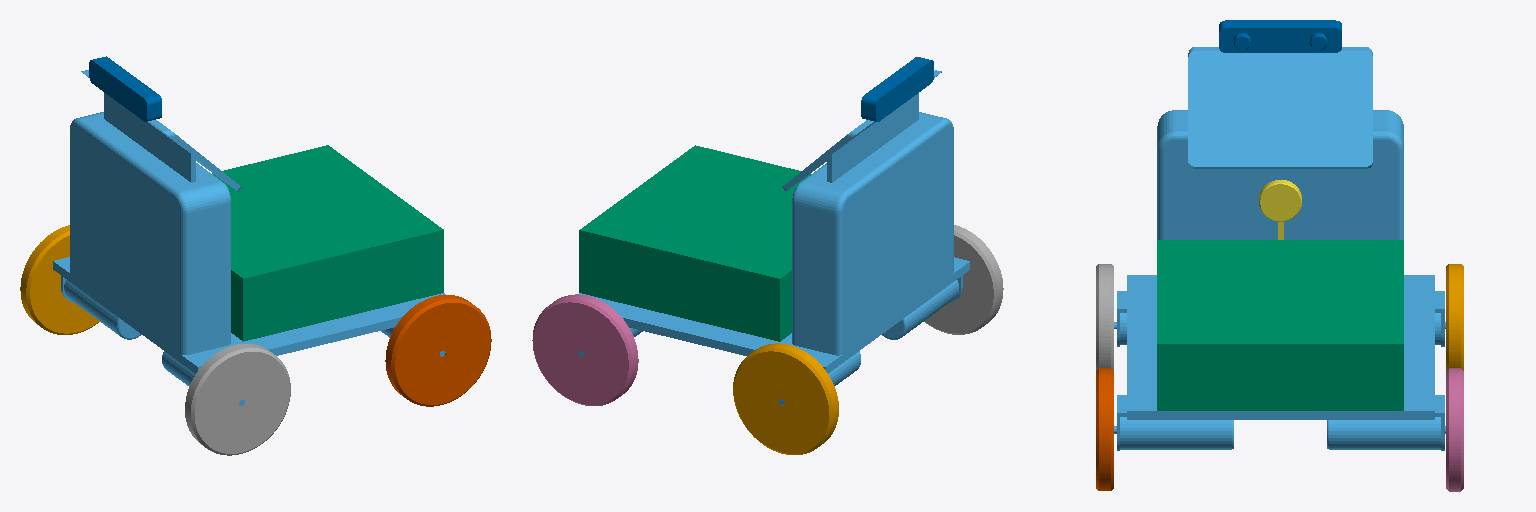
robot.urdf — cura:
<?xml version='1.0' encoding='utf-8'?>
<robot name="cura">

    <link name="base_footprint"/>
    
    <link name="base_link">
        <inertial>
            <origin xyz="-0.08262380653775205 -2.2286482841173966e-06 0.061297925710071505" rpy="0.0 0.0 0.0" />
            <mass value="5.112448552839006" />
            <inertia ixx="0.0379135930743829" iyy="0.03713968953386242" izz="0.04251956273154715" ixy="9.414032329921333e-07" iyz="-9.604778950091125e-07" ixz="0.009027905699237473" />
        </inertial>
        <visual name="base_link_visual">
            <origin xyz="0.0 0.0 0.0" rpy="0.0 0.0 0.0" />
            <geometry>
                <mesh filename="package://cura_description/meshes/base_link.stl" scale="0.001 0.001 0.001" />
            </geometry>
            <material name="base_link"/>
        </visual>
        <collision name="base_link_collision">
            <origin xyz="0.0 0.0 0.051" rpy="0.0 0.0 0.0" />
            <geometry>
                <mesh filename="package://cura_description/meshes/base_link.stl" scale="0.001 0.001 0.001" />
            </geometry>
        </collision>
    </link>
    <link name="sanitation_tank">
        <inertial>
            <origin xyz="-3.7017007608692317e-16 0.09999999999999988 0.014999999999999918" rpy="0.0 -0.0 0.0" />
            <mass value="0.1810668300000006" />
            <inertia ixx="0.0007586630270449977" iyy="0.0007586630270450012" izz="0.0014546284342450005" ixy="9.17793106534601e-19" iyz="-1.81603863891322e-18" ixz="-5.011148212657467e-19" />
        </inertial>
        <visual name="sanitation_tank_visual">
            <origin xyz="-4.263256414560601e-16 0.12499999999999972 -0.00800000000000008" rpy="-3.8925688692122967e-16 -6.383782391594647e-16 -1.5707963267948932" />
            <geometry>
                <mesh filename="package://cura_description/meshes/sanitation_tank.stl" scale="0.001 0.001 0.001" />
            </geometry>
            <material name="sanitization_transparent"/>
        </visual>
        <collision name="sanitation_tank_collision">
            <origin xyz="0 0.1 0.015" rpy="0 0 0" />
            <geometry>
                <box size="0.2 0.2 0.03"/>
            </geometry>
        </collision>
    </link>
    <link name="ultrasonic_humidifier">
        <inertial>
            <origin xyz="9.495055921730156e-18 -0.08926824762380647 0.0035869477650948144" rpy="0.0 -0.0 0.0" />
            <mass value="0.00793228924731246" />
            <inertia ixx="1.9151899989100897e-06" iyy="6.081252851735302e-07" izz="2.446233038281946e-06" ixy="-4.31330295791347e-21" iyz="6.68987338025778e-08" ixz="-1.0478967289628475e-21" />
        </inertial>
        <visual name="ultrasonic_humidifier_visual">
            <origin xyz="0.0 0.008 0.08" rpy="1.5707963267948966 -1.5707963267948966 0" />
            <geometry>
                <mesh filename="package://cura_description/meshes/ultrasonic_humidifier.stl" scale="0.001 0.001 0.001" />
            </geometry>
            <material name="ultrasonic_humidifier"/>
        </visual>
        <collision name="ultrasonic_humidifier_collision">
            <origin xyz="0.0 -0.08 0.0" rpy="0 0 0" />
            <geometry>
                <cylinder radius="0.0175" length="0.0075"/>
            </geometry>
        </collision>
    </link>
    <link name="camera_link">
        <inertial>
            <origin xyz="0.0004355208632667207 2.808606897768501e-13 0.010999998588990962" rpy="0.0 -0.0 0.0" />
            <mass value="0.03622612512790615" />
            <inertia ixx="3.127500439889389e-05" iyy="2.1988384702894236e-06" izz="3.0681383750880316e-05" ixy="-3.1212025022856454e-18" iyz="2.975526497420423e-20" ixz="2.168404344971009e-19" />
        </inertial>
        <visual name="camera_link_visual">
            <origin xyz="0.12949747000000017 -6.661338147750939e-18 -0.21103301000000035" rpy="-3.1308063019589895e-16 -1.665334536937735e-15 -3.081487911019576e-33" />
            <geometry>
                <mesh filename="package://cura_description/meshes/camera_link.stl" scale="0.001 0.001 0.001" />
            </geometry>
            <material name="camera_link"/>
        </visual>
        <collision name="camera_link_collision">
            <origin xyz="0.0025 0 0.011" rpy="0 0 0" />
            <geometry>
                <box size="0.02 0.1 0.022"/> 
            </geometry>
        </collision>
    </link>
    
    <!--Wheels-->
    <link name="f_wheel_r">
        <inertial>
            <origin xyz="-1.1546319456101628e-15 -4.440892098500626e-18 -0.007500000000000018" rpy="0.0 -0.0 0.0" />
            <mass value="0.12238212935734573" />
            <inertia ixx="7.781462317218903e-05" iyy="7.78146231719323e-05" izz="0.00015114632321814475" ixy="0.0" iyz="1.0842021724855044e-19" ixz="-2.168404344971009e-19" />
        </inertial>
        <visual name="f_wheel_r_visual">
            <origin xyz="-0.1 0.023 -0.135" rpy="-1.5707963267948966 -0.0 0.0" />
            <geometry>
                <mesh filename="package://cura_description/meshes/f_wheel_r.stl" scale="0.001 0.001 0.001" />
            </geometry>
            <material name="wheels"/>
        </visual>
        <collision name="f_wheel_r_collision">
            <origin xyz="0 0 0" rpy="0 0 0" />
            <geometry>
                <cylinder radius="0.05" length="0.015"/>
            </geometry>
        </collision>
    </link>
    <link name="f_wheel_l">
        <inertial>
            <origin xyz="1.1723955140041654e-15 -1.3322676295501878e-17 -0.007499999999999982" rpy="0.0 -0.0 0.0" />
            <mass value="0.1223821293573457" />
            <inertia ixx="7.78146231721886e-05" iyy="7.781462317193143e-05" izz="0.00015114632321814475" ixy="-2.710505431213761e-19" iyz="-1.6263032587282567e-19" ixz="-2.168404344971009e-19" />
        </inertial>
        <visual name="f_wheel_l_visual">
            <origin xyz="-0.1 -0.023 -0.149" rpy="1.5707963267948966 -0.0 0.0" />
            <geometry>
                <mesh filename="package://cura_description/meshes/f_wheel_l.stl" scale="0.001 0.001 0.001" />
            </geometry>
            <material name="wheels"/>
        </visual>
        <collision name="f_wheel_l_collision">
            <origin xyz="0 0 0" rpy="0 0 0" />
            <geometry>
                <cylinder radius="0.05" length="0.015"/>
            </geometry>
        </collision>
    </link>
    <link name="b_wheel_r">
        <inertial>
            <origin xyz="-1.1723955140041654e-15 1.7763568394002505e-17 -0.007500000000000018" rpy="0.0 -0.0 0.0" />
            <mass value="0.12238212935734573" />
            <inertia ixx="7.781462317218947e-05" iyy="7.78146231719323e-05" izz="0.00015114632321814496" ixy="0.0" iyz="-2.710505431213761e-19" ixz="-2.168404344971009e-19" />
        </inertial>
        <visual name="b_wheel_r_visual">
            <origin xyz="0.1 0.023 -0.135" rpy="-1.5707963267948966 -0.0 0.0" />
            <geometry>
                <mesh filename="package://cura_description/meshes/b_wheel_r.stl" scale="0.001 0.001 0.001" />
            </geometry>
            <material name="wheels"/>
        </visual>
        <collision name="b_wheel_r_collision">
            <origin xyz="0 0 0" rpy="0 0 0" />
            <geometry>
                <cylinder radius="0.05" length="0.015"/>
            </geometry>
        </collision>
    </link>
    <link name="b_wheel_l">
        <inertial>
            <origin xyz="1.1191048088221578e-15 4.440892098500626e-18 -0.0075" rpy="0.0 -0.0 0.0" />
            <mass value="0.12238212935734573" />
            <inertia ixx="7.781462317218773e-05" iyy="7.781462317193143e-05" izz="0.0001511463232181441" ixy="1.0842021724855044e-19" iyz="1.0842021724855044e-19" ixz="0.0" />
        </inertial>
        <visual name="b_wheel_l_visual">
            <origin xyz="0.1 -0.023 -0.149" rpy="1.5707963267948966 -0.0 0.0" />
            <geometry>
                <mesh filename="package://cura_description/meshes/b_wheel_l.stl" scale="0.001 0.001 0.001" />
            </geometry>
            <material name="wheels"/>
        </visual>
        <collision name="b_wheel_l_collision">
            <origin xyz="0 0 0" rpy="0 0 0" />
            <geometry>
                <cylinder radius="0.05" length="0.015"/>
            </geometry>
        </collision>
    </link>
    
    <link name="hmi">
        <inertial>
            <origin xyz="0.009071293031360598 5.098169701195674e-17 0.0158352964536687" rpy="0.0 -0.0 0.0" />
            <mass value="0.10596741272194547" />
            <inertia ixx="0.00023875316959975348" iyy="7.865987992900208e-05" izz="0.00023981759909064463" ixy="-3.0214916423002986e-19" iyz="2.3681574105902843e-19" ixz="3.640533841500152e-05" />
        </inertial>
        <visual name="hmi_visual">
            <origin xyz="0.10499999999999984 6.661338147750939e-18 -0.15799999999999972" rpy="-7.728840207056554e-17 -1.665334536937734e-16 0.0" />
            <geometry>
                <mesh filename="package://cura_description/meshes/hmi.stl" scale="0.001 0.001 0.001" />
            </geometry>
            <material name="hmi"/>
        </visual>
        <collision name="hmi_collision">
            <origin xyz="0.10499999999999984 6.661338147750939e-18 -0.15799999999999972" rpy="-7.728840207056554e-17 -1.665334536937734e-16 0.0" />
            <geometry>
                <mesh filename="package://cura_description/meshes/hmi.stl" scale="0.001 0.001 0.001" />
            </geometry>
        </collision>
    </link>
    <link name="storage_link">
        <inertial>
            <origin xyz="-1.2878587085651815e-16 6.223015277861142e-62 0.014999999999999982" rpy="0.0 1.0947644252537636e-47 4.6420214075303244e-108" />
            <mass value="1.194432450000008" />
            <inertia ixx="0.0050046258506750065" iyy="0.0050046258506750265" izz="0.009595658158675037" ixy="-1.4279066817834966e-17" iyz="1.0709300113376228e-18" ixz="7.372574772901427e-18" />
        </inertial>
        <visual name="storage_link_visual">
            <origin xyz="-0.030000000000000113 1.4322126339888328e-47 -0.03799999999999993" rpy="-1.3123729491118374e-16 -2.2204460492503146e-16 -4.774042113296092e-46" />
            <geometry>
                <mesh filename="package://cura_description/meshes/storage_link.stl" scale="0.001 0.001 0.001" />
            </geometry>
            <material name="storage_link"/>
        </visual>
        <collision name="storage_link_collision">
            <origin xyz="0 0 0.015" rpy="0 0 0" />
            <geometry>
                <box size="0.2 0.2 0.03" />
            </geometry>
        </collision>
    </link>

    <link name="lidar_link">
        <inertial>
            <origin xyz="7.116039687743801e-18 0.0 -0.020198259768853668" rpy="0.0 0.0 0.0" />
            <mass value="1.2541268954019027" />
            <inertia ixx="0.0005611320175222303" iyy="0.0005611320175222528" izz="0.0007797876536401378" ixy="3.5697667044587433e-19" iyz="0.0" ixz="-1.769352804218788e-21" />
        </inertial>
        <visual name="lidar_link_visual">
            <origin xyz="0.0 0.0 0.0" rpy="0.0 0.0 0.0" />
            <geometry>
                <mesh filename="package://cura_description/meshes/lidar_link.stl" scale="0.001 0.001 0.001" />
            </geometry>
            <material name="lidar_link"/>
        </visual>
        <collision name="lidar_link_collision">
            <origin xyz="0.0 0.0 -0.0205" rpy="0.0 0.0 0.0" />
            <geometry>
                <cylinder radius="0.035" length="0.041"/>
            </geometry>
        </collision>
    </link>

    <joint name="base_link_joint" type="fixed">
        <origin xyz="0.0 0.0 0.0" rpy="0.0 -0.0 0.0" />
        <parent link="base_footprint" />
        <child link="base_link" />
    </joint>
    <joint name="sanitation_tank_joint" type="fixed">
        <origin xyz="0.13 0.0 0.008" rpy="0.0 -0.0 1.5707963267948966" />
        <parent link="base_link" />
        <child link="sanitation_tank" />
    </joint>
    <joint name="b_wheel_r_revolute" type="continuous">
        <origin xyz="-0.1 -0.1495 -0.023" rpy="-1.5707963267948966 -0.0 0.0" />
        <parent link="base_link" />
        <child link="b_wheel_r" />
        <axis xyz="0.0 0.0 1.0" />
    </joint>
    <joint name="f_wheel_l_revolute" type="continuous">
        <origin xyz="0.1 0.149 -0.023" rpy="-1.5707963267948966 -0.0 0.0" />
        <parent link="base_link" />
        <child link="f_wheel_l" />
        <axis xyz="0.0 0.0 1.0" />
    </joint>
    <joint name="b_wheel_l_revolute" type="continuous">
        <origin xyz="-0.1 0.149 -0.023" rpy="-1.5707963267948966 -0.0 0.0" />
        <parent link="base_link" />
        <child link="b_wheel_l" />
        <axis xyz="0.0 0.0 1.0" />
    </joint>
    <joint name="f_wheel_r_revolute" type="continuous">
        <origin xyz="0.1 -0.1495 -0.023" rpy="-1.5707963267948966 -0.0 0.0" />
        <parent link="base_link" />
        <child link="f_wheel_r" />
        <axis xyz="0.0 0.0 1.0" />
    </joint>
    <joint name="ultrasonic_humidifier_joint" type="fixed">
        <origin xyz="-0.08 0.0 0.008" rpy="-1.5707963267948966 -0.0 -1.5707963267948966" />
        <parent link="base_link" />
        <child link="ultrasonic_humidifier" />
    </joint>
    <joint name="hmi_joint" type="fixed">
        <origin xyz="-0.105 0.0 0.158" rpy="0.0 -0.0 0.0" />
        <parent link="base_link" />
        <child link="hmi" />
    </joint>
    <joint name="camera_joint" type="fixed">
        <origin xyz="-0.024497470000000004 0.0 0.05303300999999998" rpy="0.0 -0.0 0.0" />
        <parent link="hmi" />
        <child link="camera_link" />
    </joint>
    <joint name="storage_joint" type="fixed">
        <origin xyz="0.0 0.1 0.03" rpy="0.0 9.86076131526265e-32 -1.5707963267948966" />
        <parent link="sanitation_tank" />
        <child link="storage_link" />
    </joint>
    <joint name="lidar_joint" type="fixed">
        <origin xyz="0 0 0" rpy="0.0 0.0 0.0"/>
        <parent link="base_link"/>
        <child link="lidar_link"/>
    </joint>
</robot>    

--- Facts derived from the render (not from the file) ---
Views: 3 orthographic renders of the robot side by side, from view 1: azimuth 30°, elevation 25°; view 2: azimuth 150°, elevation 25°; view 3: azimuth 270°, elevation 25°.
Model cura with 12 links and 11 joints (4 continuous, 7 fixed), rooted at base_footprint, posed all joints at 0.
Visible links, largest first — view 1: base_link, storage_link, b_wheel_r, f_wheel_r, sanitation_tank, b_wheel_l, hmi, camera_link; view 2: base_link, storage_link, b_wheel_l, f_wheel_l, sanitation_tank, b_wheel_r, hmi, camera_link; view 3: base_link, storage_link, hmi, sanitation_tank, camera_link, f_wheel_l, f_wheel_r, b_wheel_r, b_wheel_l, ultrasonic_humidifier.
Boxes of the visible links, left/top/right/bottom form: base_link: left=53, top=112, right=445, bottom=405; storage_link: left=212, top=145, right=443, bottom=309; b_wheel_r: left=185, top=344, right=290, bottom=455; f_wheel_r: left=385, top=295, right=491, bottom=406; sanitation_tank: left=231, top=261, right=443, bottom=341; b_wheel_l: left=20, top=225, right=99, bottom=334; hmi: left=81, top=70, right=241, bottom=191; camera_link: left=89, top=56, right=161, bottom=121; base_link: left=578, top=112, right=969, bottom=405; storage_link: left=579, top=145, right=810, bottom=309; b_wheel_l: left=733, top=343, right=838, bottom=454; f_wheel_l: left=532, top=294, right=638, bottom=405; sanitation_tank: left=579, top=262, right=791, bottom=341; b_wheel_r: left=924, top=225, right=1003, bottom=334; hmi: left=782, top=70, right=941, bottom=191; camera_link: left=861, top=57, right=933, bottom=121; base_link: left=1114, top=110, right=1445, bottom=450; storage_link: left=1157, top=240, right=1403, bottom=376; hmi: left=1188, top=47, right=1372, bottom=168; sanitation_tank: left=1157, top=377, right=1403, bottom=410; camera_link: left=1219, top=20, right=1341, bottom=52; f_wheel_l: left=1446, top=368, right=1463, bottom=491; f_wheel_r: left=1096, top=368, right=1113, bottom=490; b_wheel_r: left=1096, top=264, right=1113, bottom=370; b_wheel_l: left=1446, top=264, right=1463, bottom=370; ultrasonic_humidifier: left=1259, top=180, right=1301, bottom=239.
Size in the robot's own frame: 0.3 by 0.299 by 0.306 metres.
Meshes: 11 distinct files referenced, 11 mesh visuals loaded (11 binary STL).
